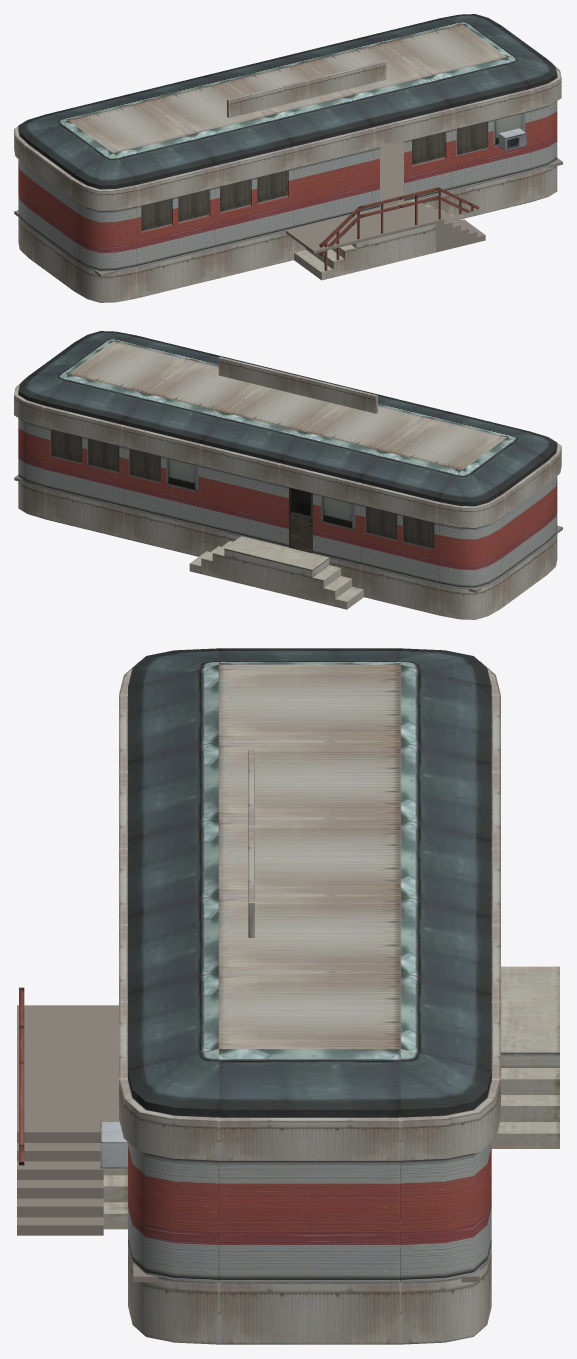
The model's file is rural-diner.access-v3.lod0.glb.
3 renders of one model, top to bottom at view 1: azimuth 30°, elevation 25°; view 2: azimuth 150°, elevation 25°; view 3: azimuth 270°, elevation 25°, orthographic. The views are drawn at different scales.
Parts seen in each view (by area): view 1: Rural_Diner_1_Rural_Facade_FLR_2_0, Rural_Diner_1_Rural_Trailer_Stuff_1_0, Walkable floors and stairs; view 2: Rural_Diner_1_Rural_Facade_FLR_2_0, Rural_Diner_1_Rural_Trailer_Stuff_1_0; view 3: Rural_Diner_1_Rural_Facade_FLR_2_0, Rural_Diner_1_Rural_Trailer_Stuff_1_0, Walkable floors and stairs.
Boxes of the visible parts, box(x1,y1,x2,y2) form: Rural_Diner_1_Rural_Facade_FLR_2_0: box(14, 14, 561, 302); Rural_Diner_1_Rural_Trailer_Stuff_1_0: box(18, 101, 557, 271); Walkable floors and stairs: box(14, 142, 562, 277); Rural_Diner_1_Rural_Facade_FLR_2_0: box(14, 331, 561, 619); Rural_Diner_1_Rural_Trailer_Stuff_1_0: box(18, 418, 557, 588); Rural_Diner_1_Rural_Facade_FLR_2_0: box(19, 648, 559, 1344); Rural_Diner_1_Rural_Trailer_Stuff_1_0: box(128, 1142, 491, 1282); Walkable floors and stairs: box(17, 1005, 479, 1282).
Bounding box in the file's own units: 18.3 × 5.31 × 8.96.
3 materials, 2 textured.
